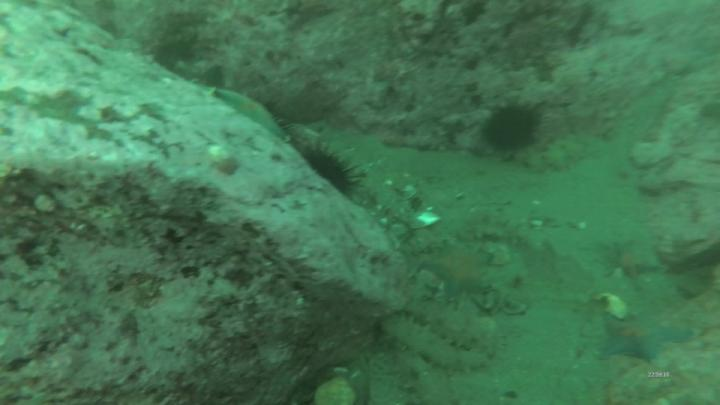echinus: (487, 106, 534, 150), (304, 151, 349, 195)
holothurian: (378, 312, 485, 372), (407, 294, 495, 355), (387, 359, 453, 403), (530, 132, 598, 172), (458, 217, 529, 246)
starfish: (602, 310, 693, 362), (214, 88, 285, 141), (422, 240, 490, 292), (608, 241, 659, 282)
